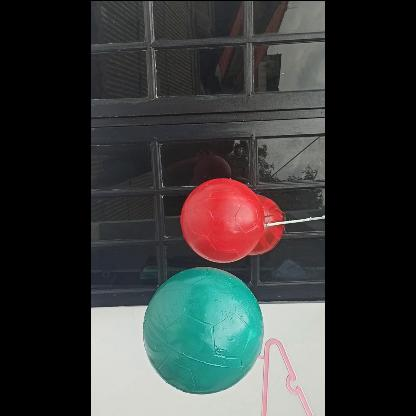red_ball: (183, 177, 265, 259)
